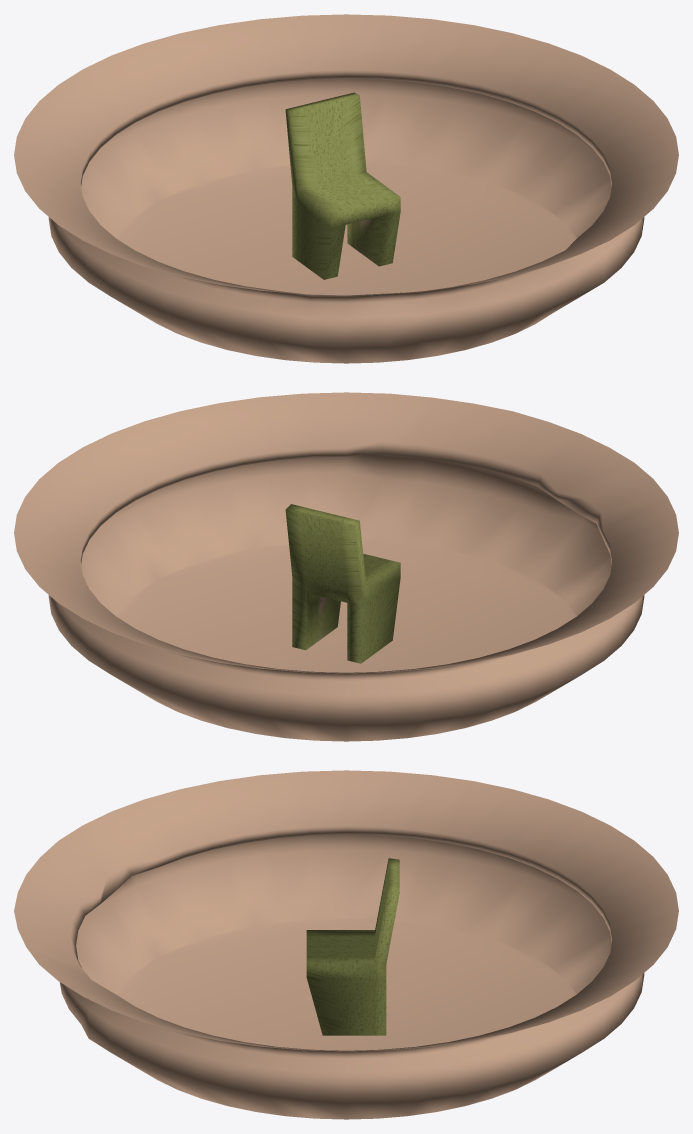
File: Hackathon2016_SpaceshipTest_Mud 1.fbx
The picture shows the model from 3 angles, top to bottom: view 1: azimuth 30°, elevation 25°; view 2: azimuth 150°, elevation 25°; view 3: azimuth 270°, elevation 25°; orthographic projection.
Visible parts, largest first — view 1: Spaceship, Seat_GAB; view 2: Spaceship, Seat_GAB; view 3: Spaceship, Seat_GAB.
Part boxes in pixels (<box>): Spaceship: <box>14,14,678,363</box>; Seat_GAB: <box>285,92,400,279</box>; Spaceship: <box>14,392,678,741</box>; Seat_GAB: <box>285,504,400,663</box>; Spaceship: <box>14,770,678,1119</box>; Seat_GAB: <box>306,858,399,1035</box>.
Size of the model in its own units: 419 by 100 by 419.
